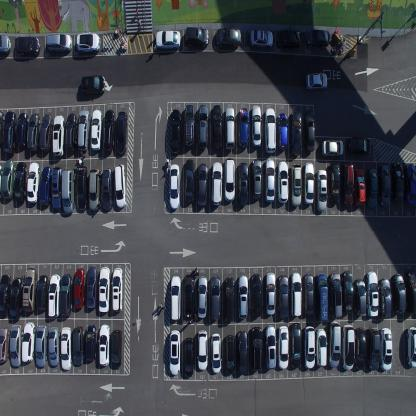car: (3, 110, 17, 157), (379, 327, 393, 372), (184, 25, 209, 50), (316, 271, 328, 323), (214, 27, 242, 49), (26, 160, 40, 204), (22, 268, 36, 312), (329, 271, 342, 318), (328, 322, 341, 368), (9, 276, 23, 318), (21, 321, 35, 363), (61, 168, 74, 213), (264, 106, 276, 154), (366, 270, 378, 318), (77, 108, 90, 152), (367, 326, 380, 370), (303, 325, 316, 369), (223, 276, 235, 323), (0, 271, 12, 318), (290, 271, 302, 318), (290, 322, 302, 369), (38, 113, 52, 153), (2, 159, 16, 199), (35, 324, 48, 367), (379, 276, 392, 319), (209, 275, 221, 321), (114, 163, 126, 209), (111, 266, 123, 312), (264, 158, 276, 204), (342, 324, 354, 370), (264, 324, 276, 370), (250, 326, 262, 372), (155, 29, 180, 51), (80, 74, 105, 96), (276, 29, 302, 50), (210, 105, 222, 150), (223, 157, 235, 202), (290, 110, 302, 155), (14, 36, 41, 56), (116, 110, 128, 155), (89, 167, 101, 212), (76, 166, 88, 211), (60, 272, 72, 317), (98, 323, 110, 368), (290, 162, 302, 207), (277, 274, 289, 319), (277, 324, 289, 369), (392, 273, 405, 314), (210, 161, 222, 205), (169, 162, 180, 210), (170, 274, 181, 322), (237, 161, 249, 205), (251, 157, 263, 201), (101, 167, 113, 211), (52, 114, 64, 158), (86, 265, 98, 309), (48, 274, 60, 318), (10, 324, 22, 368), (277, 160, 289, 204), (303, 162, 315, 206), (379, 164, 391, 208), (354, 326, 366, 370), (303, 272, 315, 316), (250, 273, 262, 317), (305, 28, 330, 49), (75, 32, 101, 52), (46, 33, 72, 53), (27, 113, 40, 153), (99, 266, 110, 313), (405, 162, 416, 209), (103, 109, 115, 152), (90, 108, 102, 151), (73, 267, 85, 310), (366, 167, 378, 210), (342, 271, 354, 314), (197, 103, 208, 149), (170, 330, 181, 376), (170, 108, 181, 154), (237, 329, 248, 375), (183, 273, 194, 319), (61, 326, 72, 372), (303, 110, 315, 152), (14, 161, 26, 203), (346, 136, 371, 156), (184, 103, 195, 148), (51, 164, 62, 209), (342, 163, 353, 208), (265, 271, 276, 316), (238, 274, 249, 319), (65, 113, 77, 154), (39, 165, 51, 206), (197, 275, 208, 319), (251, 104, 262, 148), (316, 168, 327, 212), (329, 161, 340, 205), (250, 28, 273, 49), (72, 325, 84, 365), (48, 326, 60, 366), (354, 277, 366, 317), (315, 326, 327, 366), (197, 163, 208, 206), (224, 107, 235, 150), (16, 112, 29, 148), (197, 328, 208, 370), (183, 336, 194, 378), (354, 166, 365, 208), (304, 71, 327, 91), (36, 274, 48, 312), (85, 324, 97, 362), (393, 162, 404, 203), (185, 158, 195, 203), (405, 270, 415, 315), (277, 111, 288, 151), (111, 329, 122, 369), (211, 332, 221, 374), (406, 326, 416, 368), (321, 139, 344, 157), (238, 107, 248, 148), (225, 334, 235, 374), (0, 326, 9, 364), (0, 33, 11, 55), (0, 109, 5, 149), (0, 164, 3, 200)
